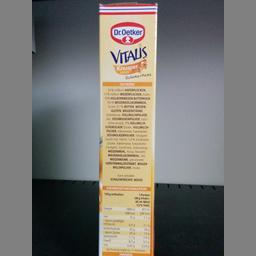cereal: (96, 2, 157, 255)
